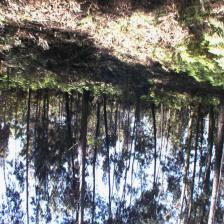trunktrack_idkeyframe: (80, 90, 90, 188), (185, 104, 198, 160), (101, 94, 110, 144), (208, 105, 215, 158), (64, 92, 72, 130), (151, 104, 157, 152), (26, 88, 31, 132), (96, 101, 100, 135)
